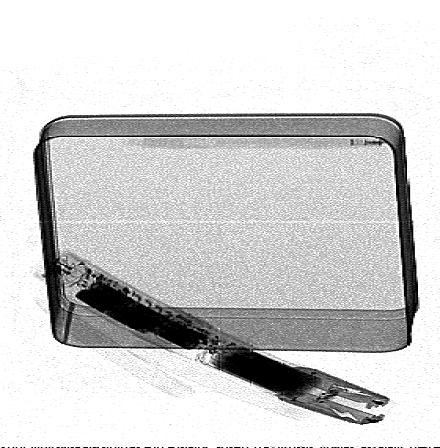Baton: (28, 248, 395, 426)
